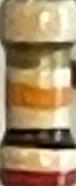Black: (1, 127, 76, 149)
Orange: (4, 81, 72, 109)
Red: (0, 168, 75, 186)
Side-Gold: (3, 40, 76, 68)
